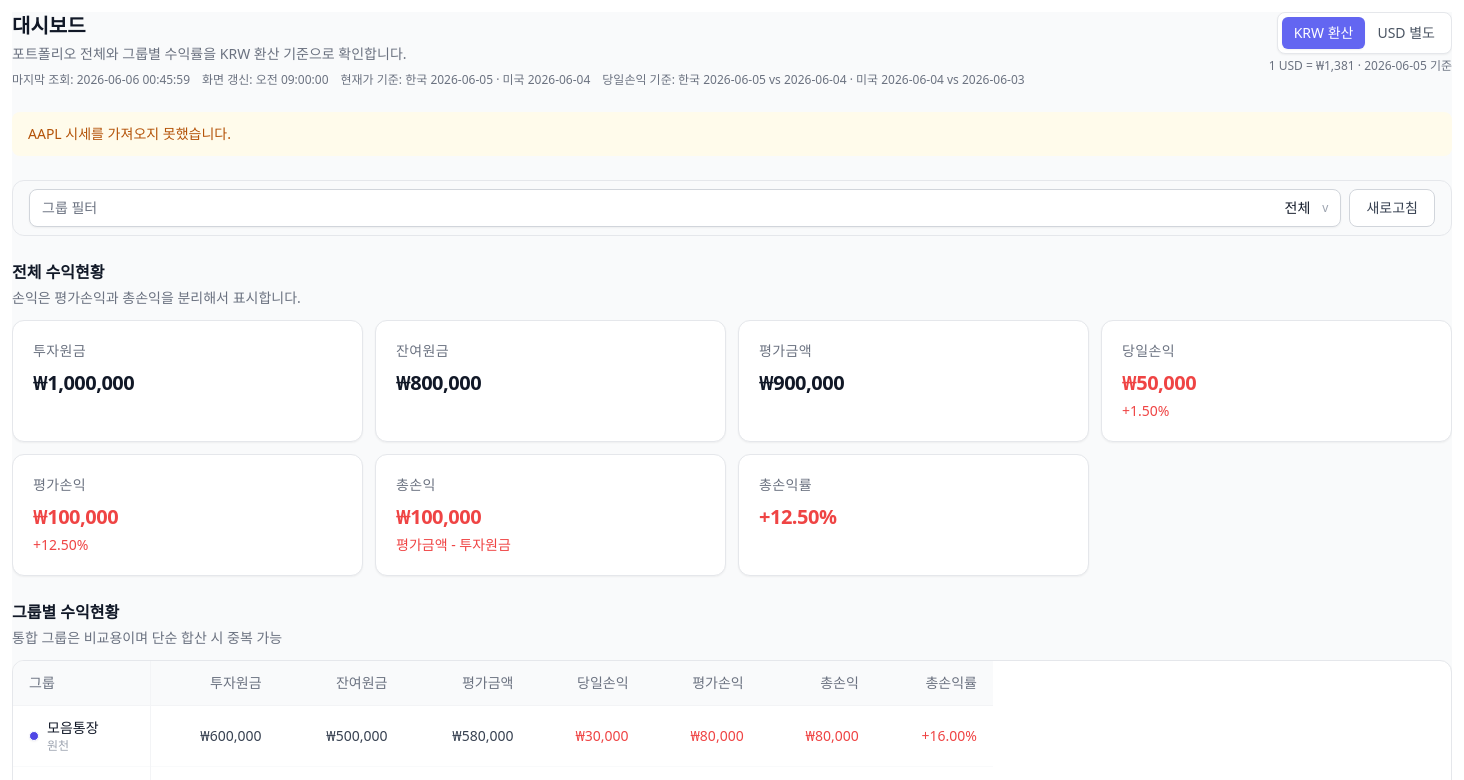
DashboardOverview › shows neutral header metadata while a label dashboard is loading
The image size is (1464, 780).
Click the button "그룹 필터 전체 v" at point(70, 208), box top-left (29, 189), bottom-right (1342, 227)
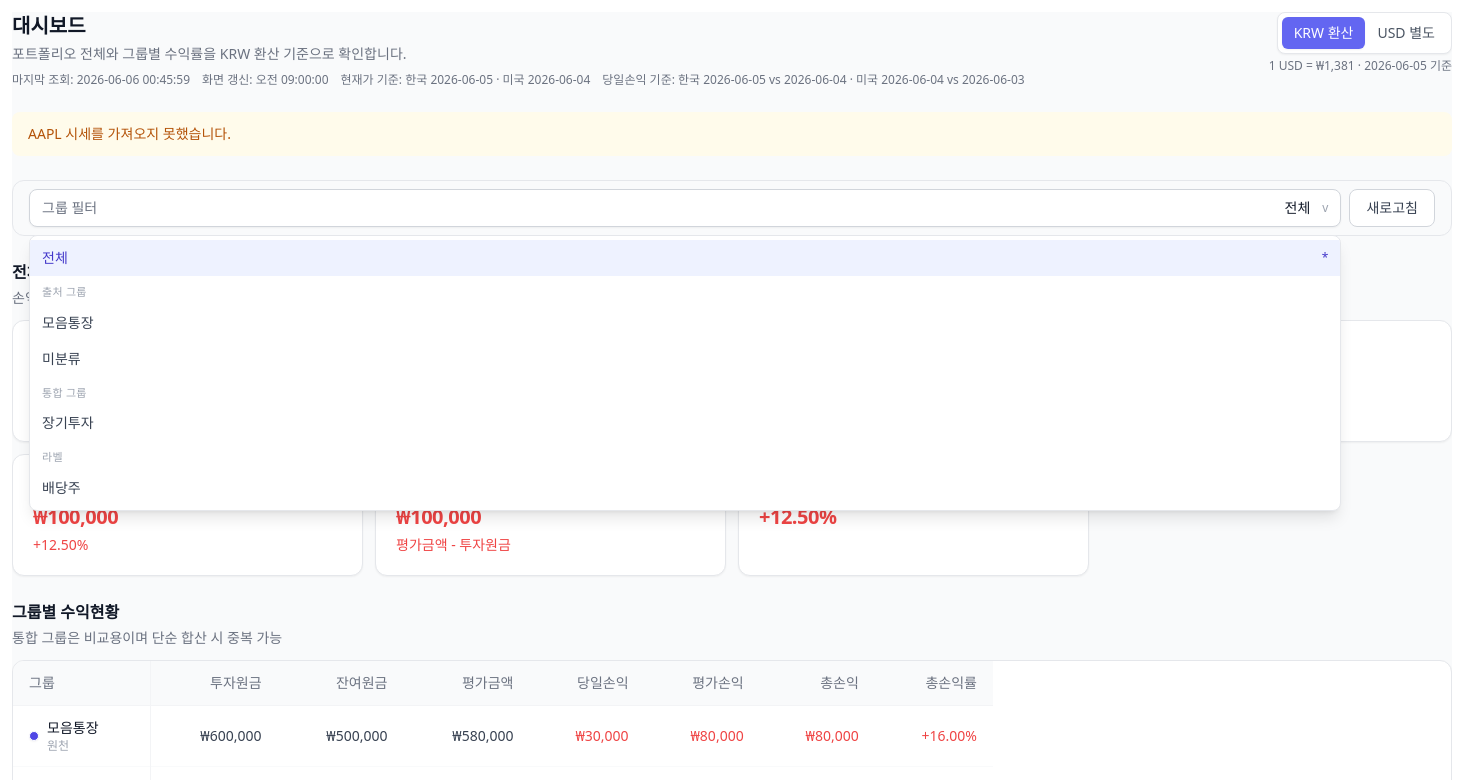
Click the option "배당주" at point(61, 487), box top-left (30, 470), bottom-right (1340, 506)
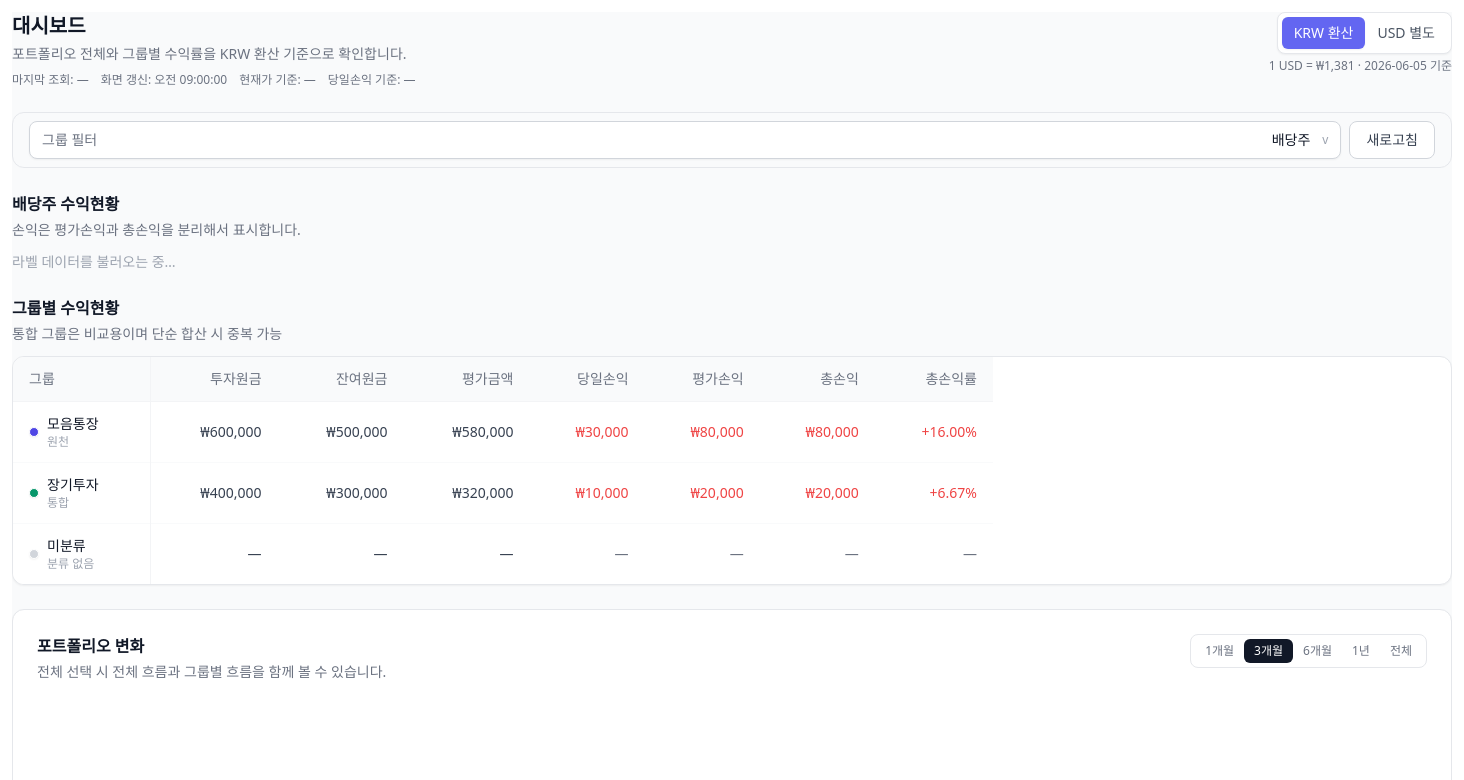
Check: the text "라벨 데이터를 불러오는 중…" is shown, box top-left (12, 252), bottom-right (176, 271)
Check: the text "마지막 조회: —" is shown, box top-left (12, 72), bottom-right (89, 88)
Check: the text "현재가 기준: —" is shown, box top-left (239, 72), bottom-right (316, 88)
